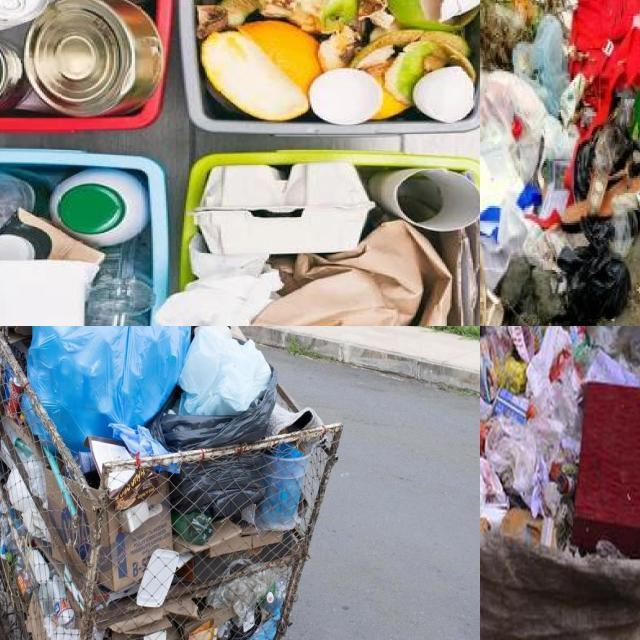Disposable: (136, 548, 180, 607)
Garbage: (0, 326, 341, 640), (480, 0, 640, 326), (480, 326, 640, 556)
Plastic: (0, 150, 168, 326)
Plastic_Bag: (480, 326, 582, 542), (27, 326, 191, 452), (480, 73, 577, 212), (152, 368, 277, 451), (178, 326, 271, 416), (558, 218, 630, 326), (171, 452, 264, 518), (512, 14, 569, 116), (584, 349, 640, 387), (245, 598, 283, 640)
Plastic_Container: (257, 444, 309, 530)
Plastic_bottle: (46, 574, 75, 627), (172, 512, 213, 545)
Tetrapack: (587, 326, 640, 362)
can: (5, 378, 23, 418)
contaminated_waste: (0, 142, 174, 326)
